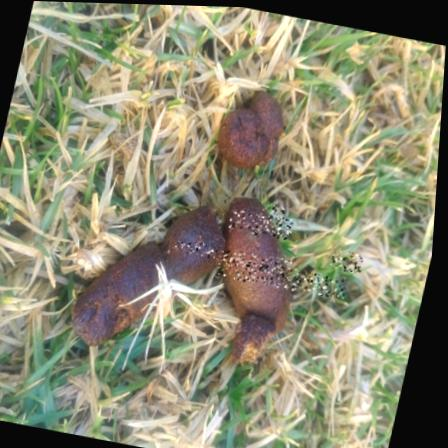dog-poop: (54, 174, 325, 382), (199, 61, 299, 176)
